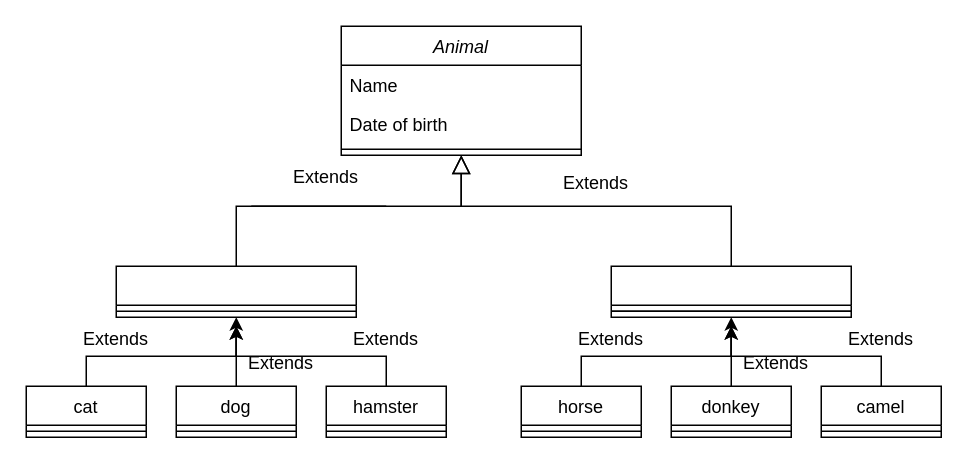
Image size: 968x464. Some labels were removed from this diagram. The shapes that lost their labels are listed below. From the top down, each one's centre as x and y in pixels, then its label:
At (x=235, y=291): "domesticAnimal".
At (x=730, y=291): "baggageAnimal".
